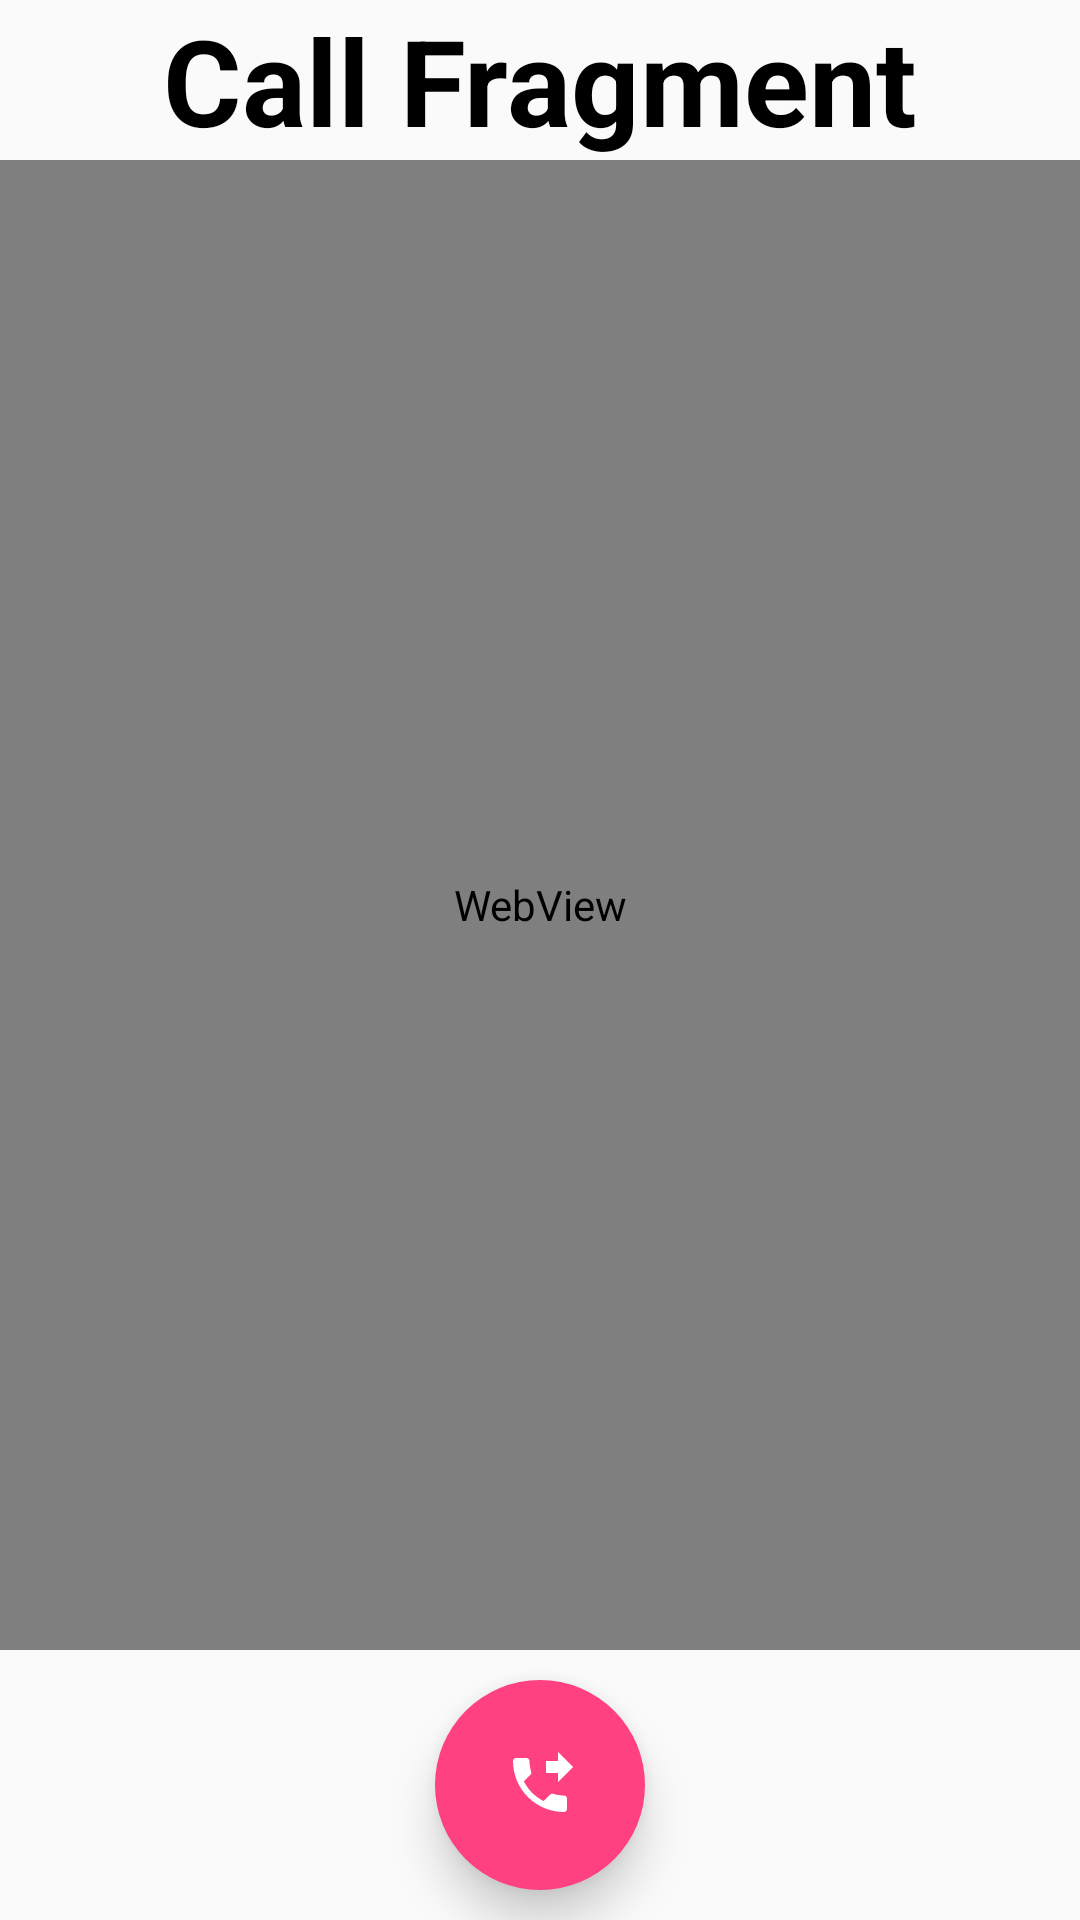

Named icons in this screenshot (1080x1920) and their centers, (x,y):
phone forwarded: (540,1785)
